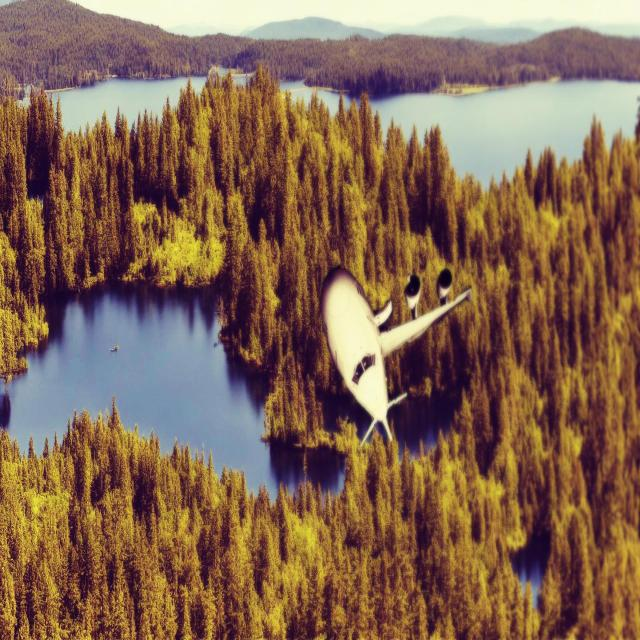airplane: (320, 264, 472, 447)
